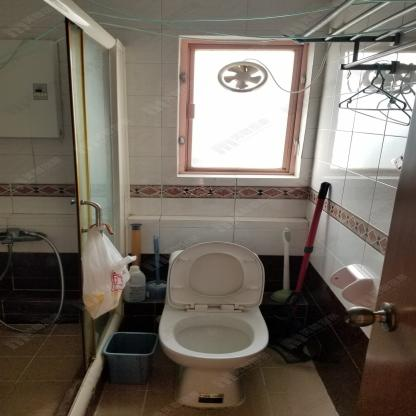Exhaust Fan: (209, 56, 281, 97)
Toilet: (158, 243, 272, 408)
Water Heater: (0, 39, 64, 139)
